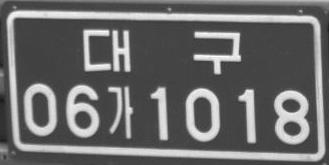0: (184, 86, 221, 143), (23, 83, 57, 136)
1: (232, 88, 268, 143), (145, 85, 180, 141)
6: (65, 83, 101, 138)
8: (274, 89, 310, 144)
가: (104, 86, 133, 139)
대구_D: (82, 28, 242, 76)
